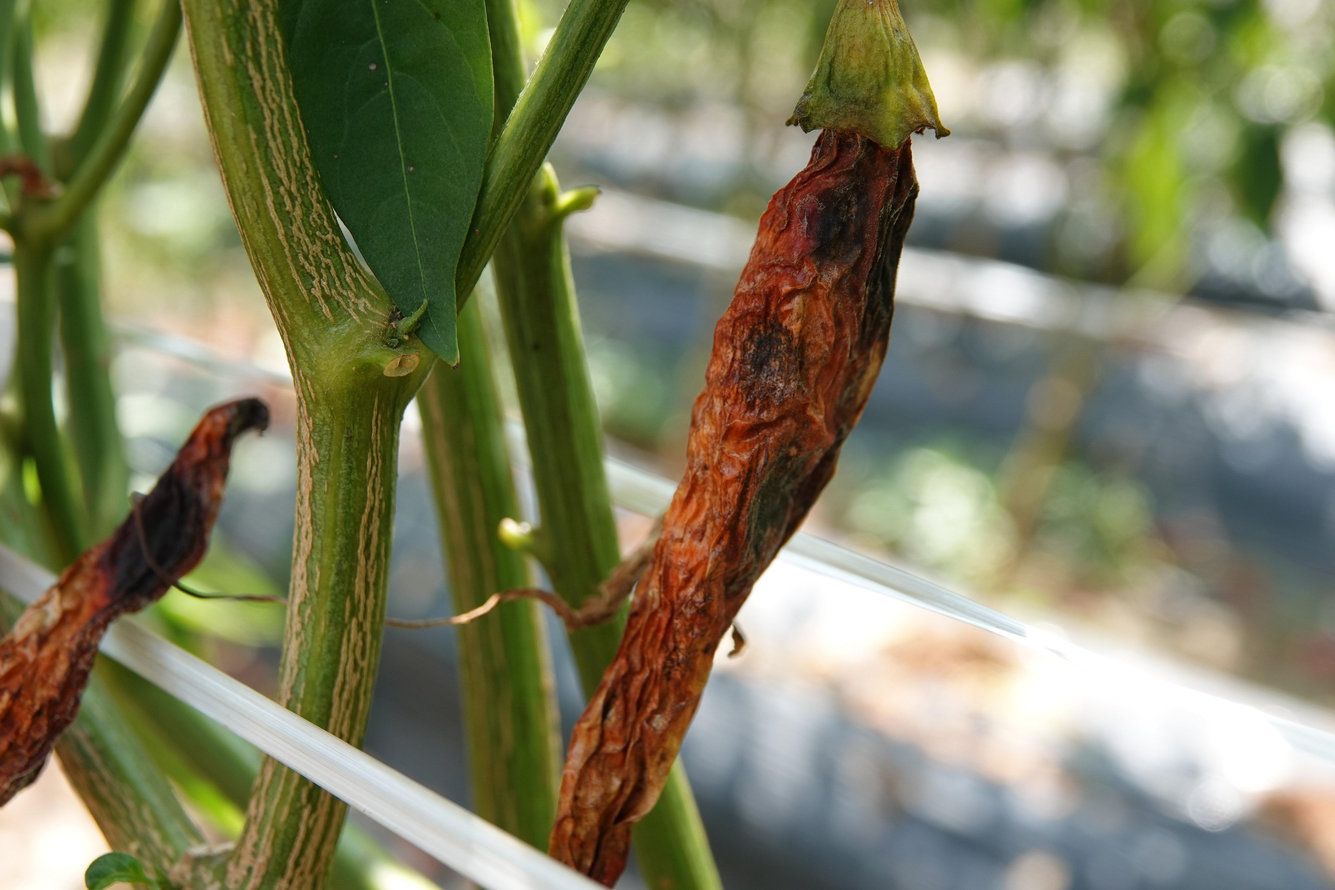Busuk Buah Antraknosa: (385, 70, 952, 885), (0, 394, 275, 818)
